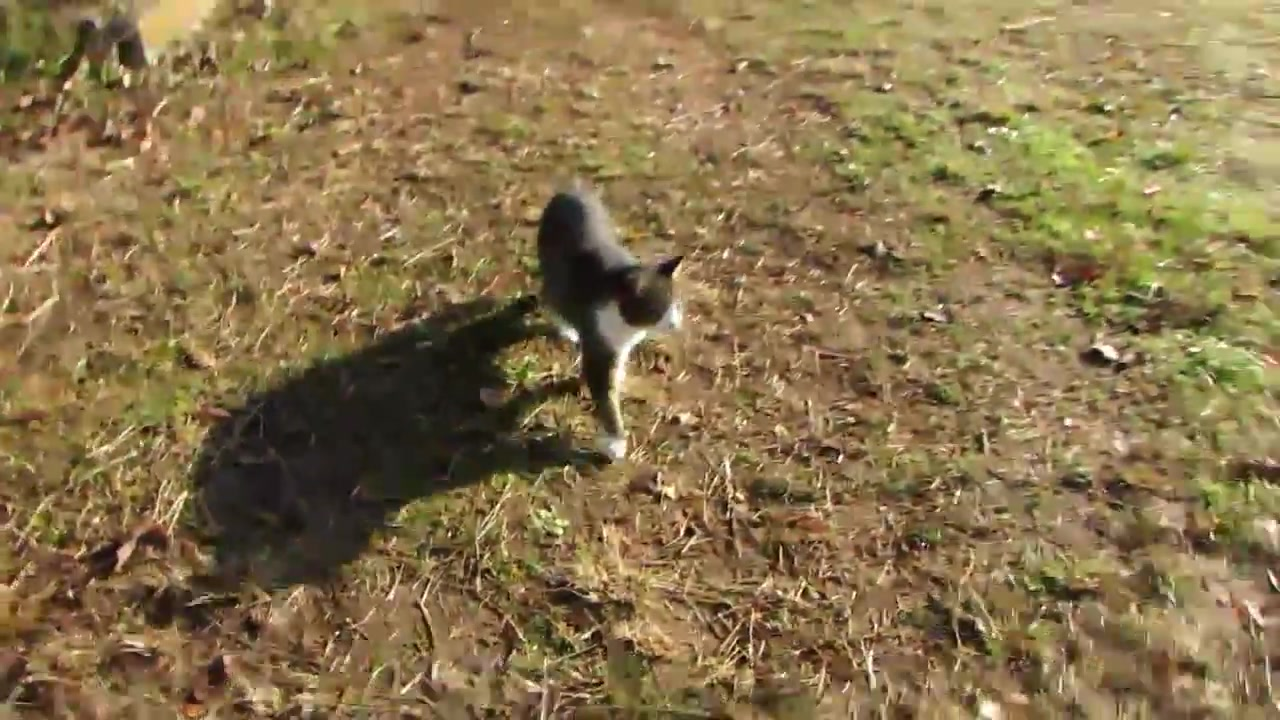cat: (534, 184, 688, 466)
